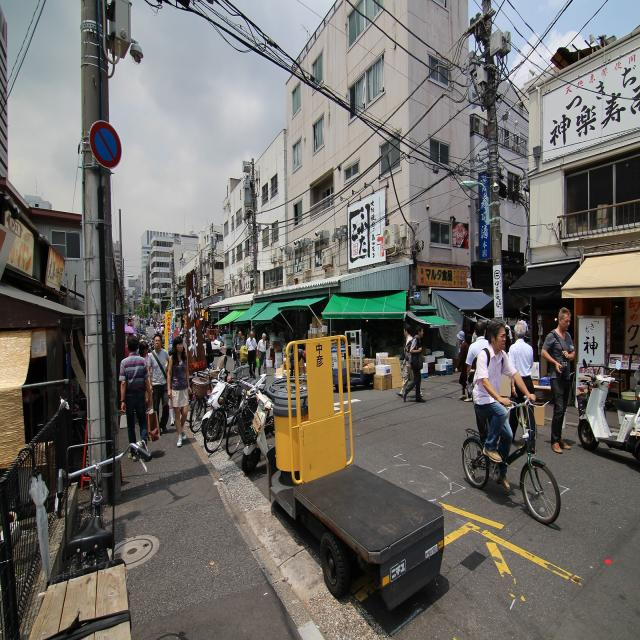body: (123, 312, 311, 461), (464, 301, 584, 508), (466, 316, 536, 492), (118, 333, 160, 463), (540, 306, 576, 456), (508, 320, 537, 455), (465, 320, 493, 444), (166, 334, 193, 447), (146, 333, 172, 436), (357, 328, 395, 387), (396, 323, 423, 398), (401, 324, 426, 404), (454, 330, 472, 402), (245, 330, 258, 379), (289, 348, 307, 383), (233, 330, 246, 369), (256, 332, 267, 378), (203, 332, 214, 372), (216, 333, 224, 346)
